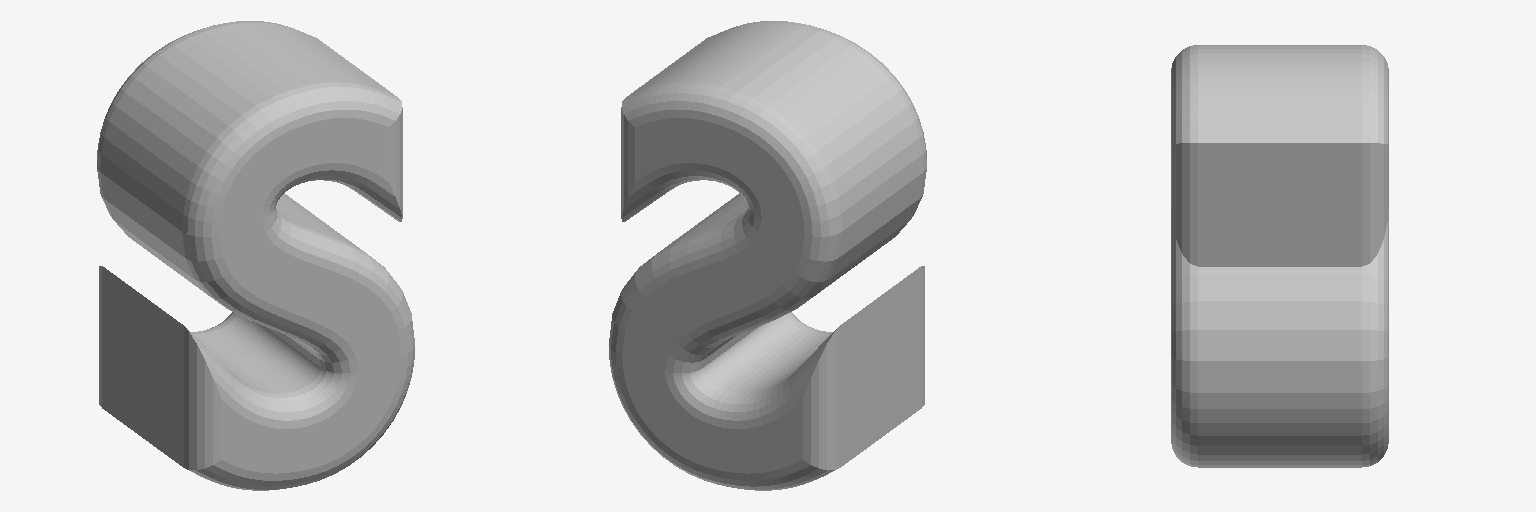
The model's file is S_moji.obj.
3 views of the same model, side by side, from view 1: azimuth 30°, elevation 25°; view 2: azimuth 150°, elevation 25°; view 3: azimuth 270°, elevation 25° (orthographic).
Visible parts, largest first — view 1: テキスト; view 2: テキスト; view 3: テキスト.
Part boxes in pixels (left/top/right/bottom): テキスト: left=97, top=21, right=414, bottom=490; テキスト: left=609, top=21, right=926, bottom=490; テキスト: left=1171, top=45, right=1388, bottom=467.
Size of the model in its own units: 0.4864 by 0.8001 by 0.4.